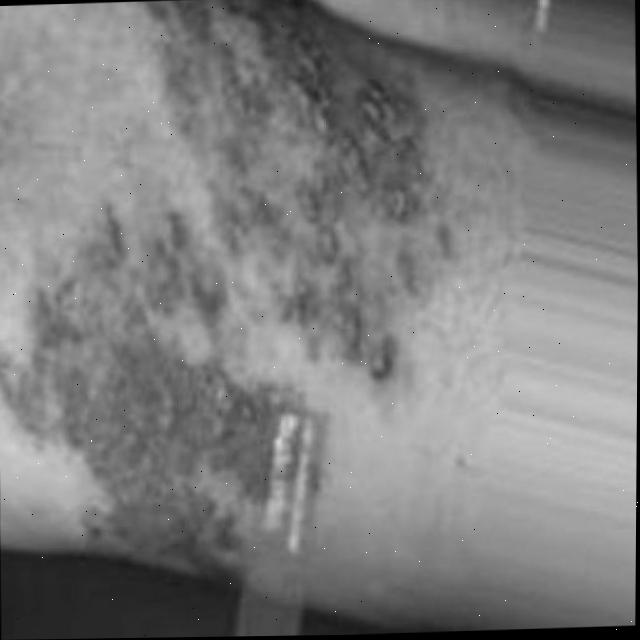Shingles: (121, 0, 456, 400), (0, 189, 304, 595)
